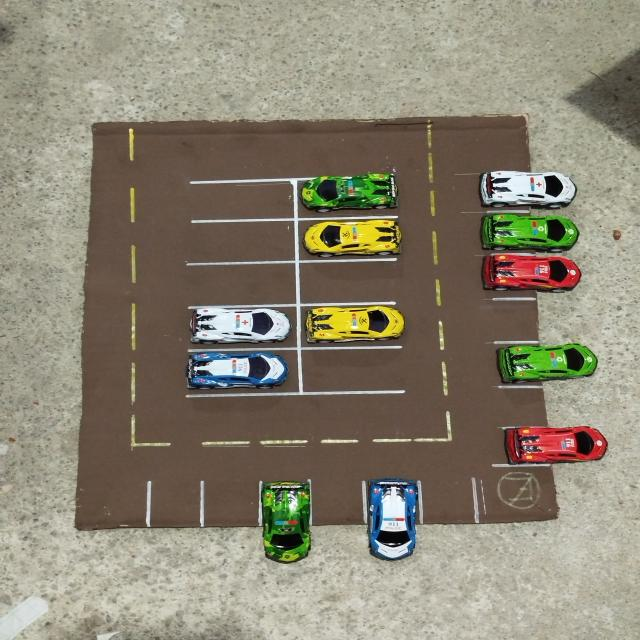libre: (418, 481, 476, 575), (78, 482, 147, 557), (297, 348, 405, 391), (202, 480, 260, 560), (311, 480, 366, 564), (188, 263, 298, 304), (491, 298, 593, 341), (295, 260, 398, 302), (188, 222, 296, 260), (148, 482, 201, 558), (190, 182, 295, 220), (498, 387, 597, 424)
no_estacionarse: (475, 466, 563, 525)
ocupado: (186, 350, 299, 396), (364, 477, 418, 566), (497, 426, 612, 466), (189, 307, 297, 349), (298, 305, 406, 347), (297, 218, 404, 259), (261, 480, 312, 566), (492, 343, 600, 383), (296, 178, 404, 218), (480, 212, 581, 254), (473, 173, 578, 212), (477, 255, 581, 292)
